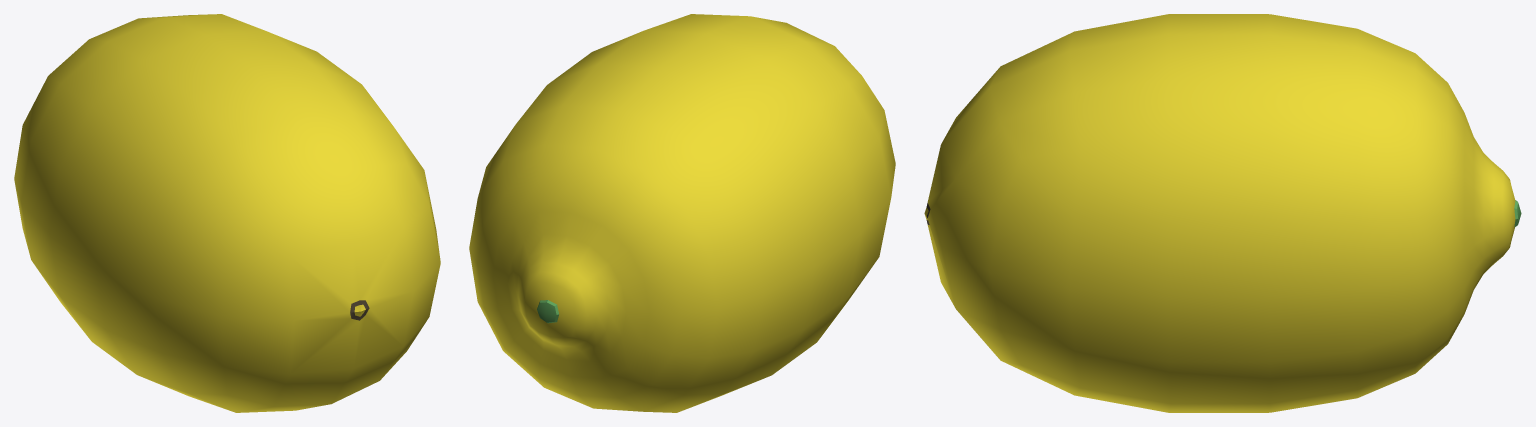
The model's file is lemon.fbx.
The picture shows the model from 3 angles, left to right: view 1: azimuth 30°, elevation 25°; view 2: azimuth 150°, elevation 25°; view 3: azimuth 270°, elevation 25°; orthographic projection. The views are drawn at different scales.
Parts seen in each view (by area): view 1: Lemon; view 2: Lemon; view 3: Lemon.
Boxes of the visible parts, box(x1,y1,x2,y2) form: Lemon: box(14, 14, 440, 412); Lemon: box(469, 14, 895, 412); Lemon: box(924, 14, 1521, 412).
Bounding box in the file's own units: 447 × 447 × 677.
